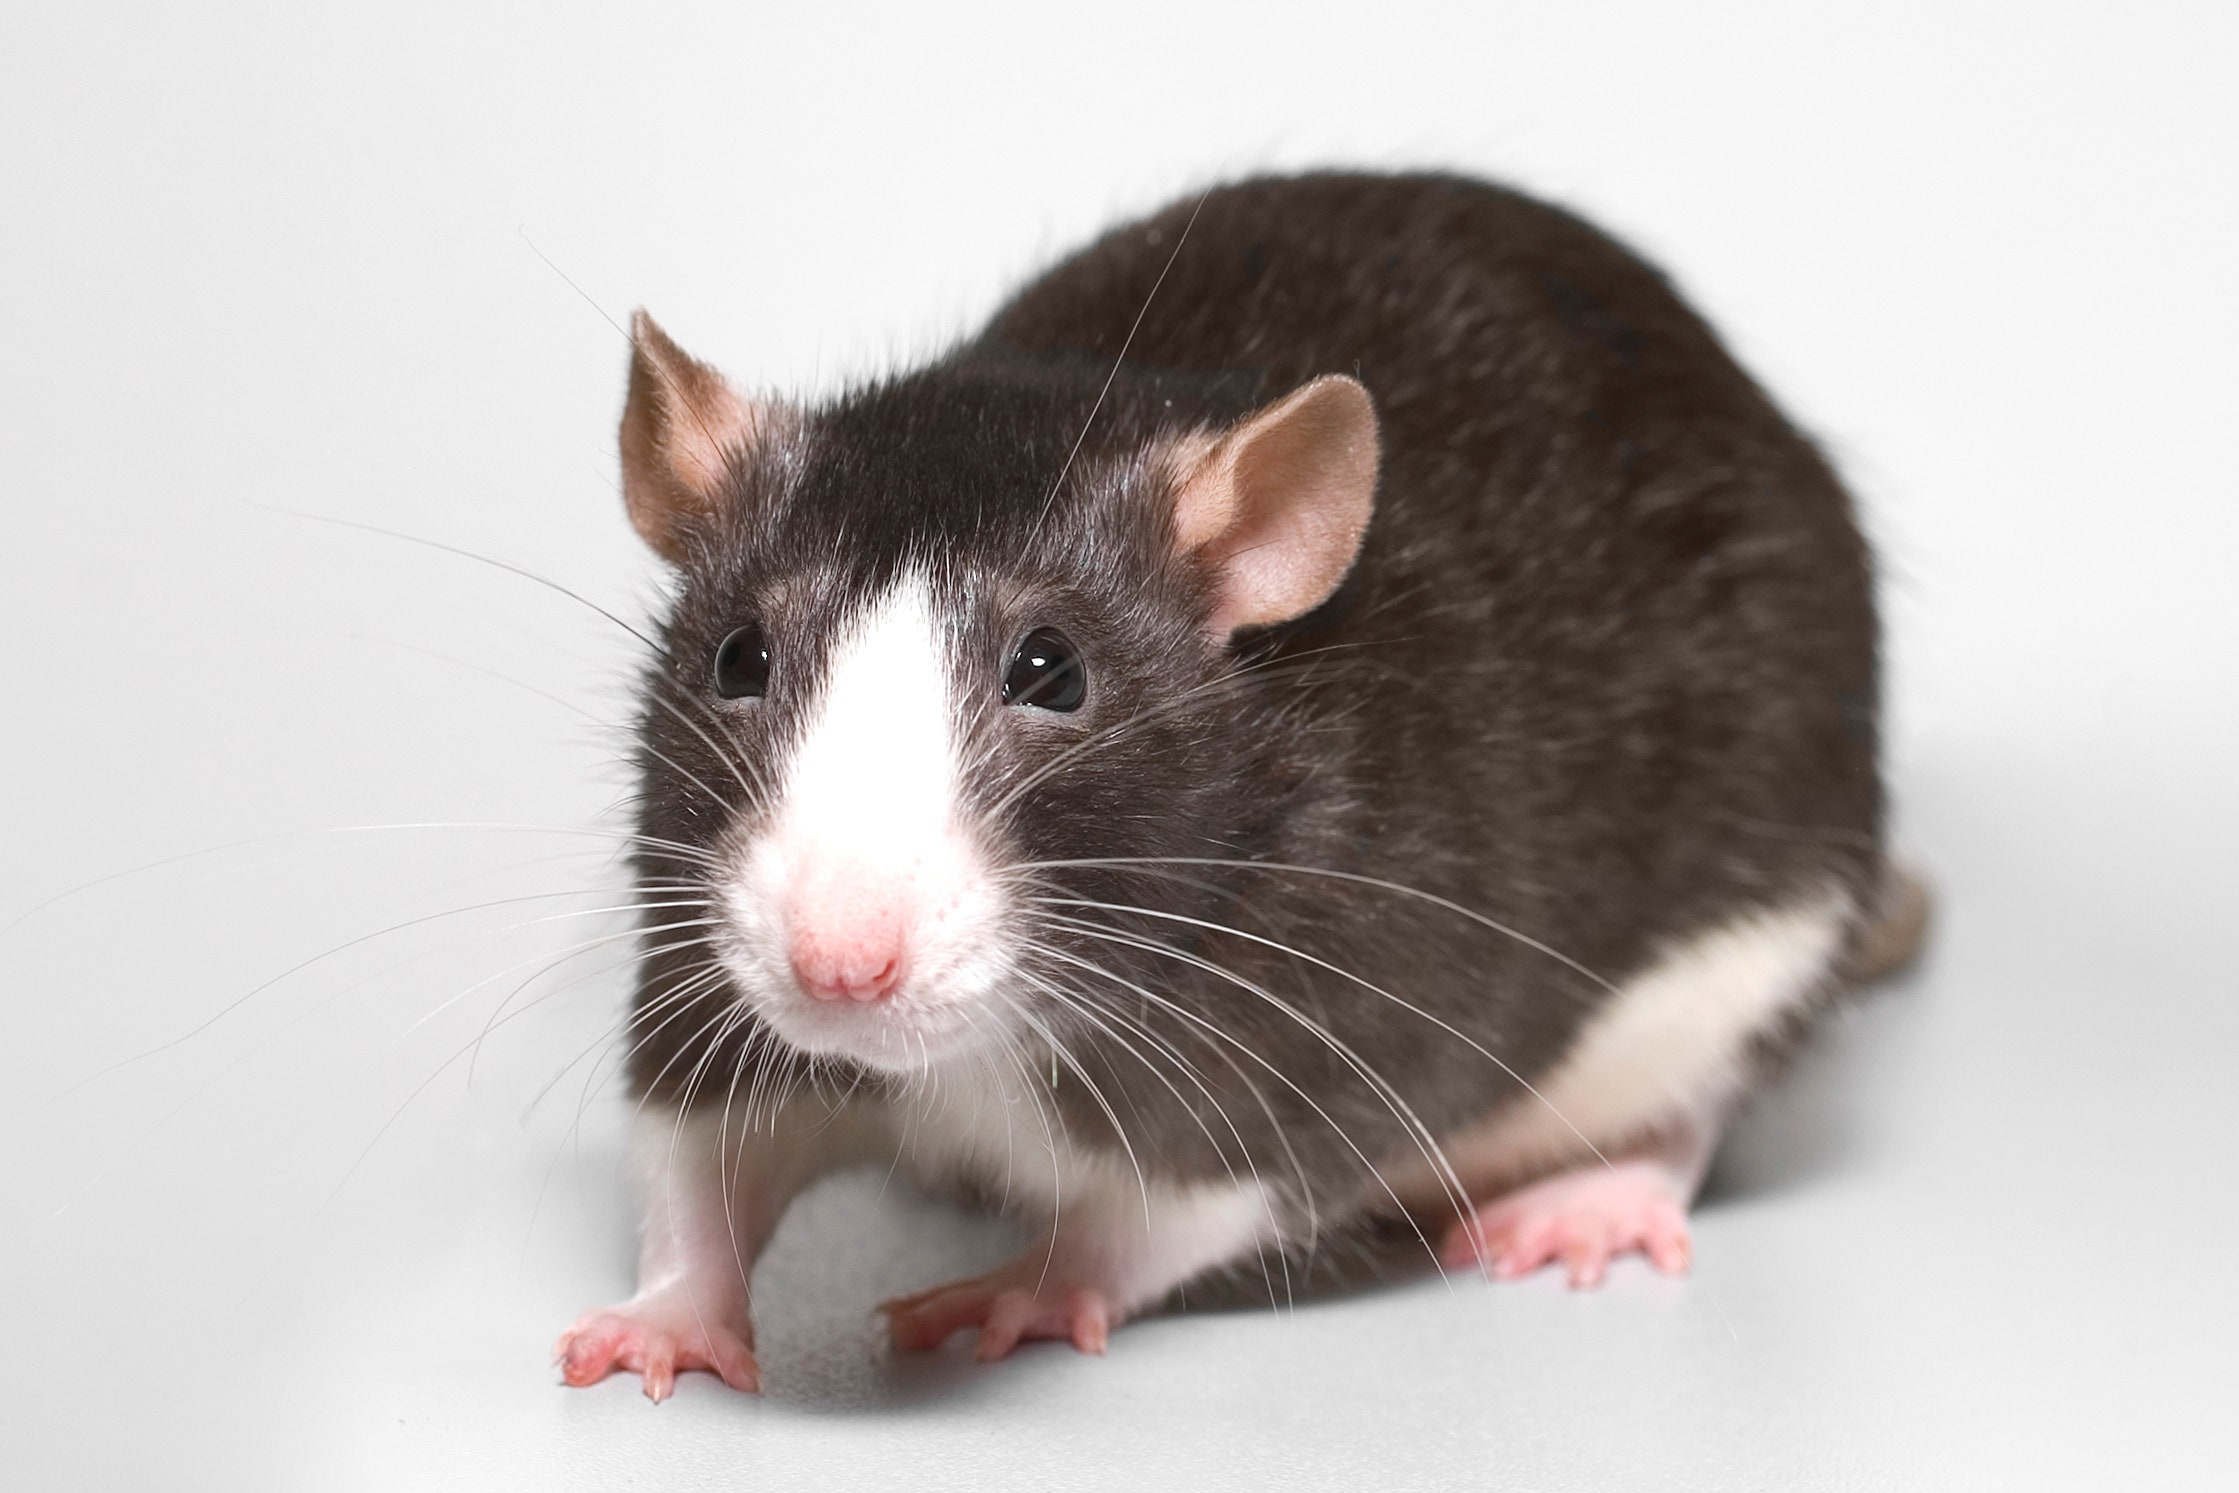Rat: (516, 102, 1962, 1445)
